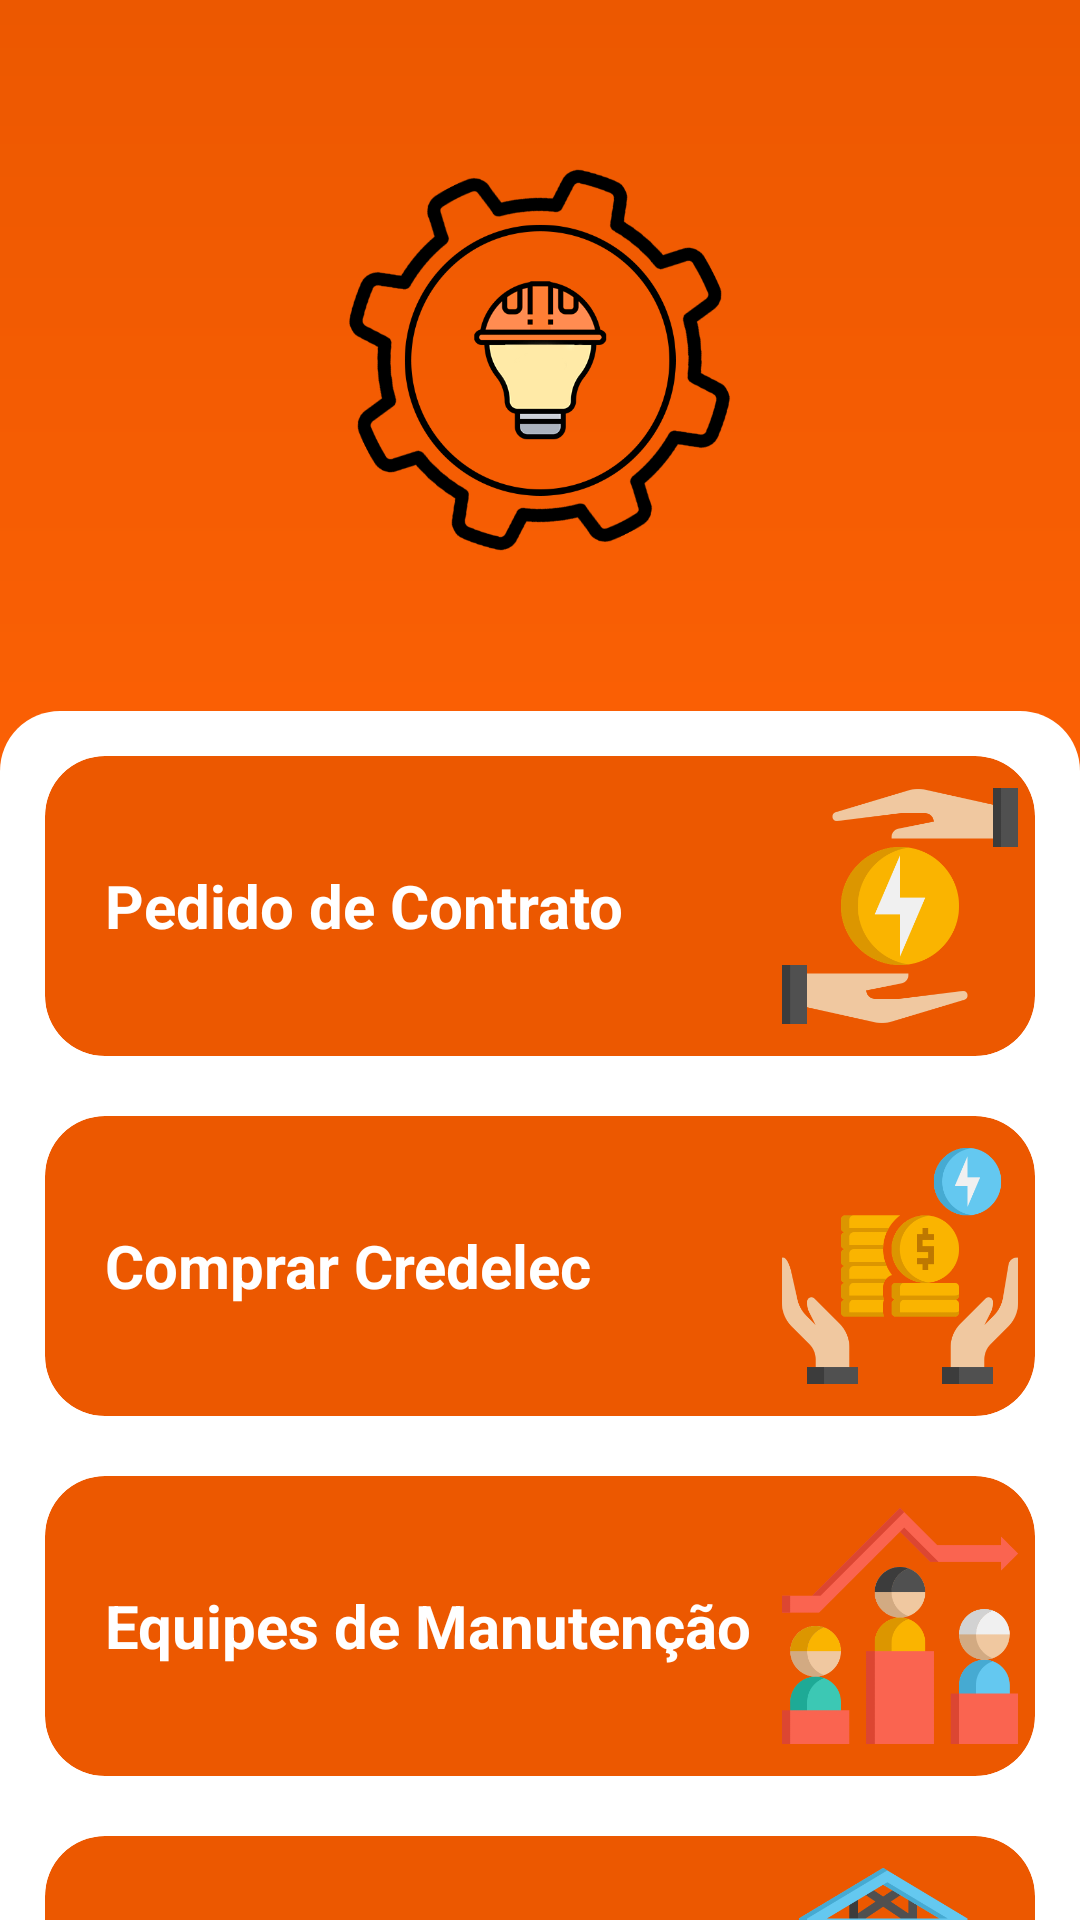

Where icons sit on this 1080×1920 app screen, as (x1, y1, x2, y2):
compra credelec: (765, 1116, 1035, 1416)
